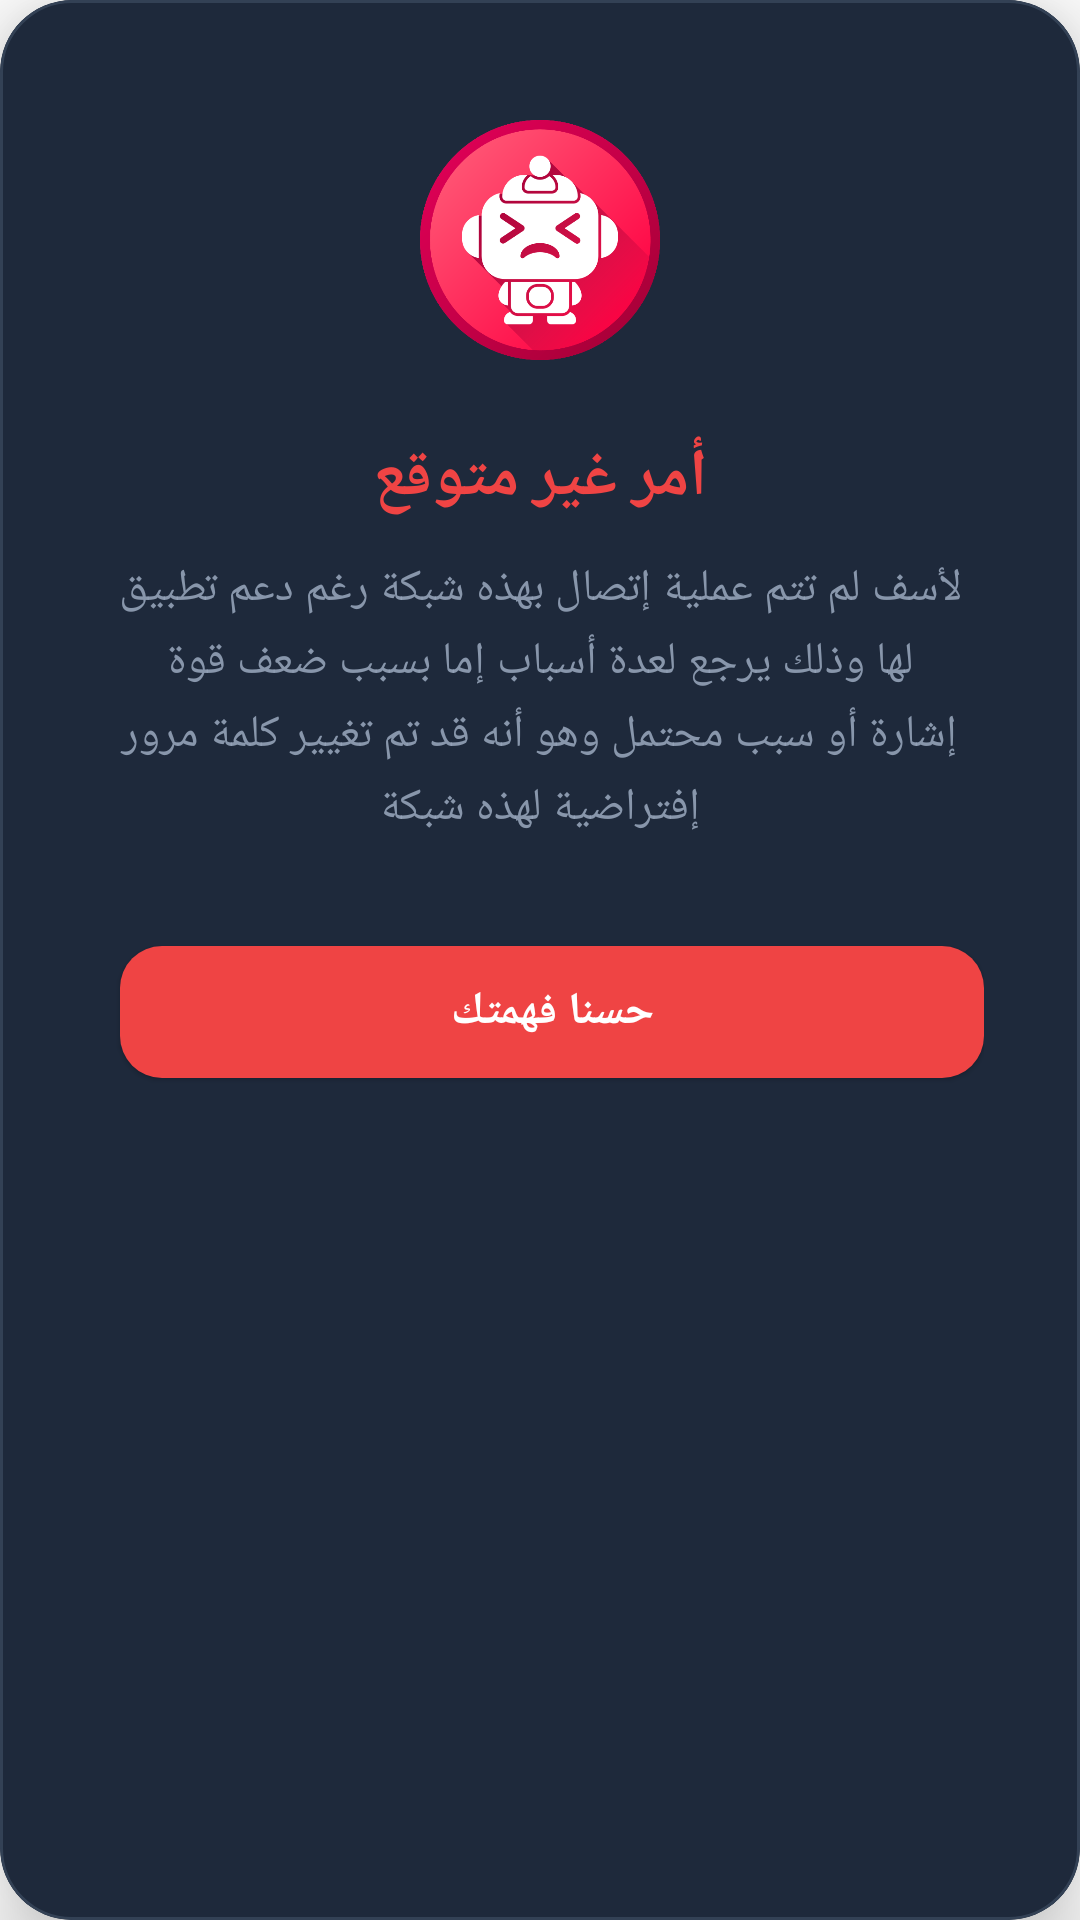

Where icons sit on this 1080 × 1920 app screen, as (x1, y1, x2, y2):
glitch: (420, 120, 660, 360)
